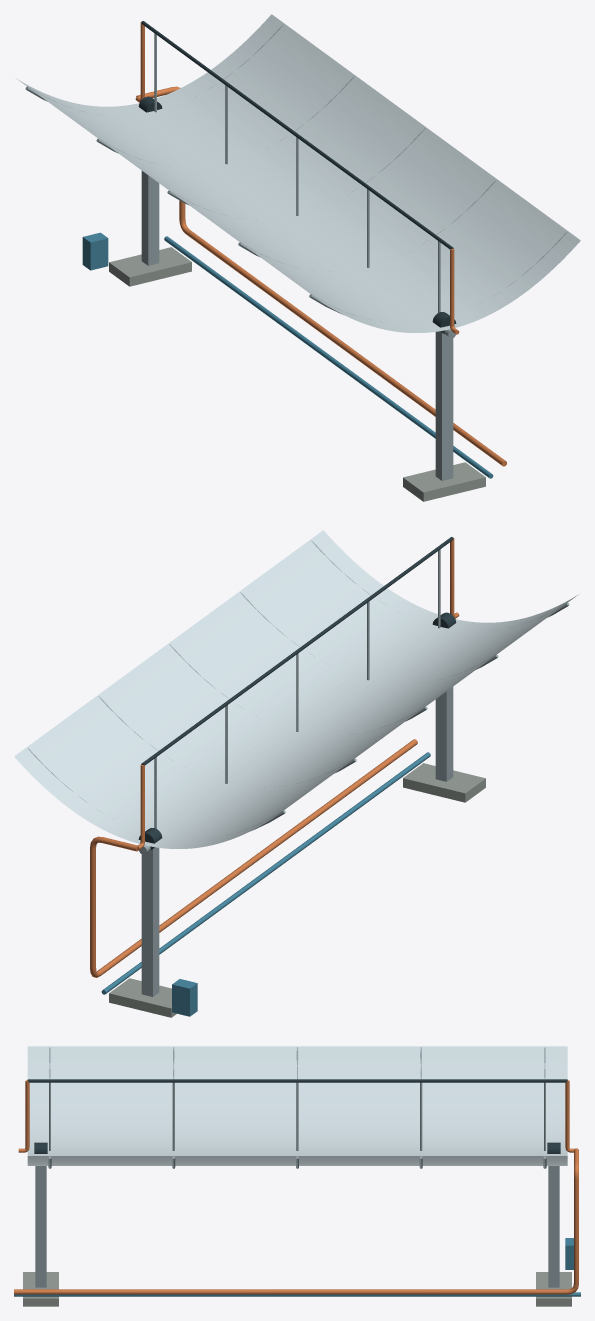
Rendered from parabolic_trough.glb.
The picture shows the model from 3 angles, top to bottom: view 1: azimuth 30°, elevation 25°; view 2: azimuth 150°, elevation 25°; view 3: azimuth 270°, elevation 25°; orthographic projection. The views are drawn at different scales.
Parts seen in each view (by area): view 1: ParabolicReflector, Stationary oil supply, Stationary tracking pedestal.001, Stationary oil return, Concrete foundation, Concrete foundation.001, Stationary tracking pedestal, ReceiverAtFocus, AC circulation controller; view 2: ParabolicReflector, Stationary oil supply, Stationary tracking pedestal, Stationary oil return, Concrete foundation.001, Stationary tracking pedestal.001, ReceiverAtFocus, Concrete foundation, AC circulation controller; view 3: ParabolicReflector, Stationary oil supply, ReceiverAtFocus, Stationary oil return, Stationary tracking pedestal, Stationary tracking pedestal.001, Concrete foundation.001, Concrete foundation, Receiver rotary end.001, Receiver rotary end.
Boxes of the visible parts, box(x1,y1,x2,y2) form: ParabolicReflector: box(16, 14, 580, 332); Stationary oil supply: box(136, 86, 506, 466); Stationary tracking pedestal.001: box(435, 331, 453, 480); Stationary oil return: box(164, 236, 493, 478); Concrete foundation: box(109, 247, 191, 286); Concrete foundation.001: box(403, 462, 485, 501); Stationary tracking pedestal: box(141, 171, 159, 265); ReceiverAtFocus: box(141, 21, 453, 249); AC circulation controller: box(82, 232, 108, 270); ParabolicReflector: box(14, 530, 578, 848); Stationary oil supply: box(90, 739, 417, 977); Stationary tracking pedestal: box(141, 847, 159, 996); Stationary oil return: box(101, 752, 430, 994); Concrete foundation.001: box(403, 763, 485, 802); Stationary tracking pedestal.001: box(435, 687, 453, 781); ReceiverAtFocus: box(141, 537, 453, 765); Concrete foundation: box(109, 978, 176, 1017); AC circulation controller: box(172, 979, 197, 1016); ParabolicReflector: box(27, 1046, 567, 1165); Stationary oil supply: box(14, 1148, 578, 1294); ReceiverAtFocus: box(27, 1079, 567, 1082); Stationary oil return: box(14, 1292, 580, 1296); Stationary tracking pedestal: box(548, 1166, 559, 1287); Stationary tracking pedestal.001: box(35, 1166, 46, 1287); Concrete foundation.001: box(23, 1272, 58, 1306); Concrete foundation: box(536, 1272, 571, 1306); Receiver rotary end.001: box(18, 1080, 29, 1152); Receiver rotary end: box(565, 1080, 574, 1152).
Size of the model in its own units: 0.5813 by 0.5245 by 1.26.
